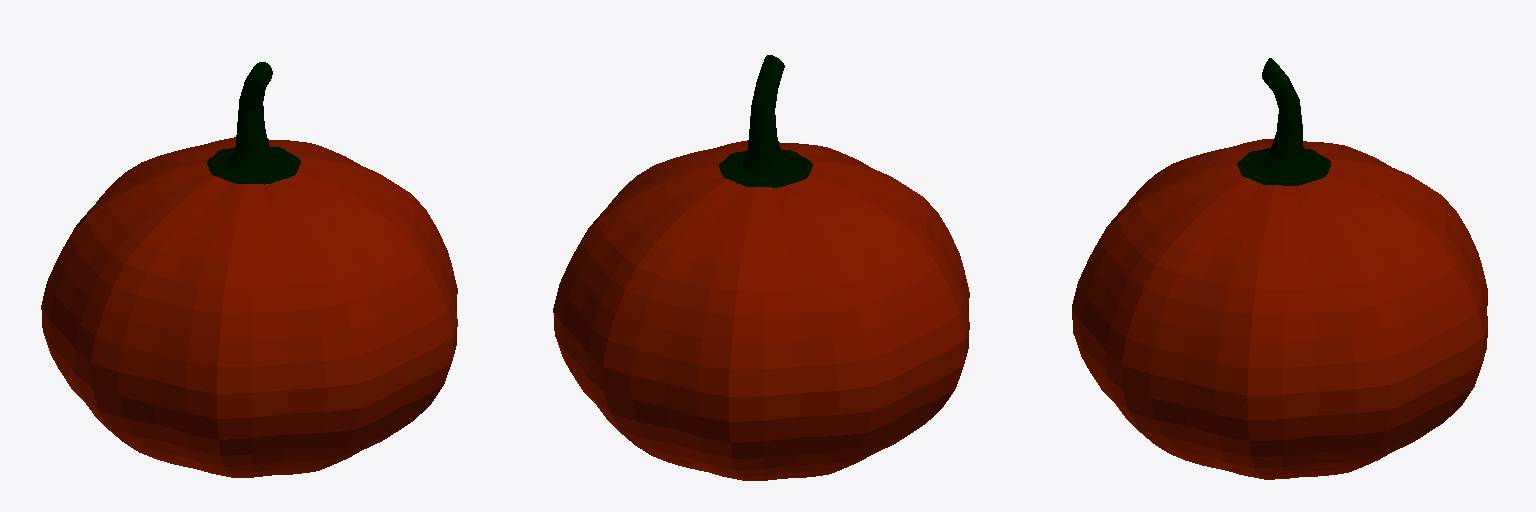
File: Pumpkin01.obj
3 views of the same model, side by side, from view 1: azimuth 30°, elevation 25°; view 2: azimuth 150°, elevation 25°; view 3: azimuth 270°, elevation 25° (orthographic).
Visible parts, largest first — view 1: Pumpkin01_Sphere; view 2: Pumpkin01_Sphere; view 3: Pumpkin01_Sphere.
Part boxes in pixels (x1,y1,x2,y2): Pumpkin01_Sphere: (41, 62, 457, 477); Pumpkin01_Sphere: (553, 55, 969, 480); Pumpkin01_Sphere: (1072, 58, 1487, 479).
Size of the model in its own units: 6.37 by 6.62 by 6.33.